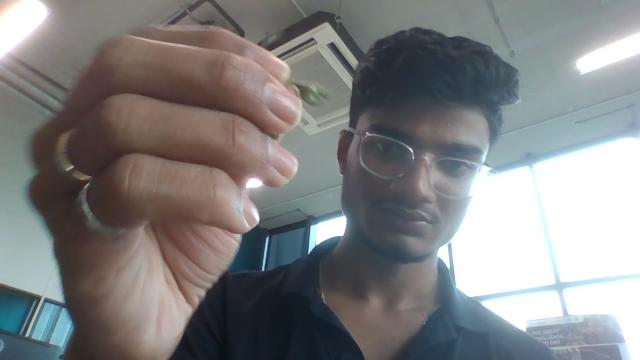Fruit Bud: (290, 79, 331, 108)
